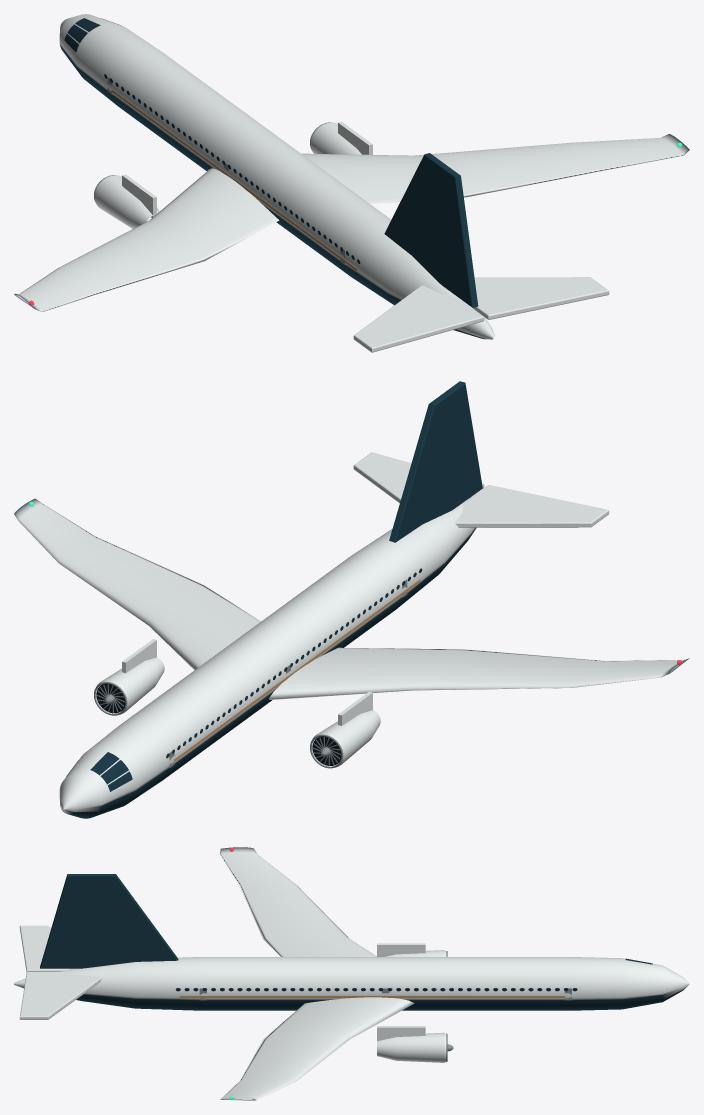
The picture shows the model from 3 angles, top to bottom: view 1: azimuth 30°, elevation 25°; view 2: azimuth 150°, elevation 25°; view 3: azimuth 270°, elevation 25°; orthographic projection. The views are drawn at different scales.
Bounding box in the file's own units: 64.8 × 17.41 × 73.86.
